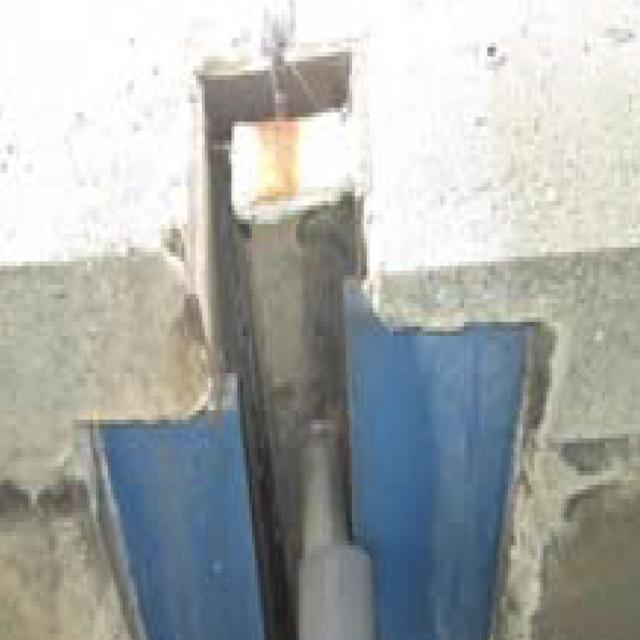corrosion: (231, 96, 323, 211)
